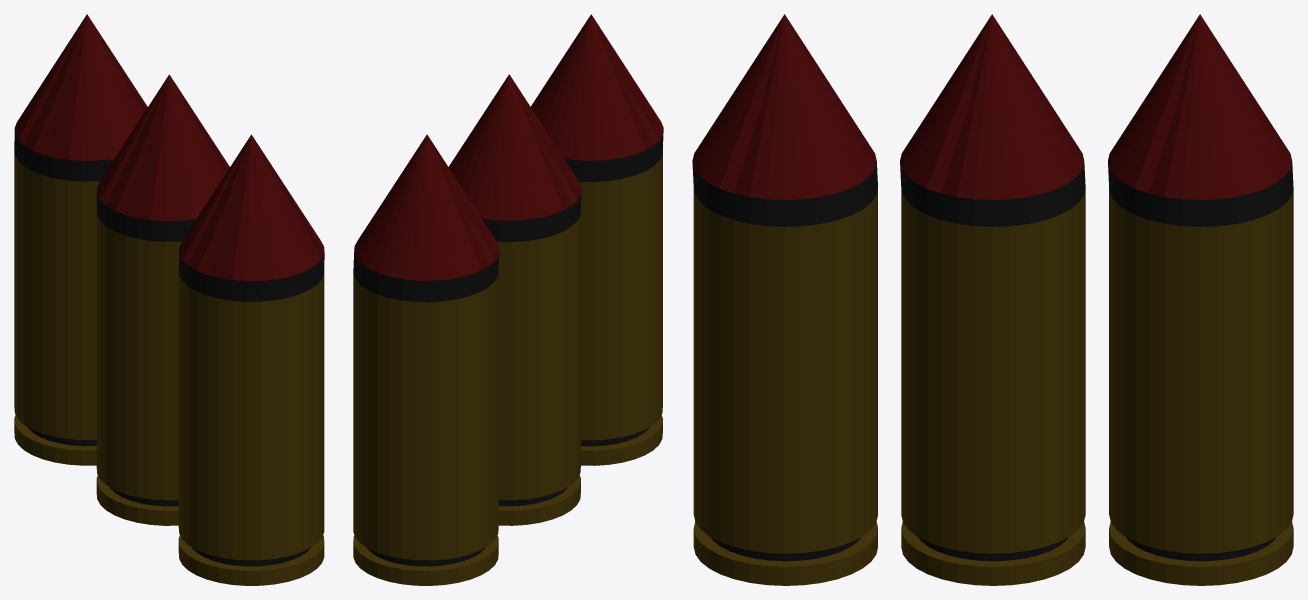
File: triplebullet.obj
3 views of the same model, side by side, from view 1: azimuth 30°, elevation 25°; view 2: azimuth 150°, elevation 25°; view 3: azimuth 270°, elevation 25° (orthographic). The views are drawn at different scales.
Visible parts, largest first — view 1: Cylinder.001, Cylinder.004, Cylinder; view 2: Cylinder.004, Cylinder, Cylinder.001; view 3: Cylinder.001, Cylinder, Cylinder.004.
Boxes of the visible parts, <box> form: Cylinder.001: <box>178,134,324,585</box>; Cylinder.004: <box>14,14,147,465</box>; Cylinder: <box>96,74,229,525</box>; Cylinder.004: <box>353,134,499,585</box>; Cylinder: <box>448,74,581,525</box>; Cylinder.001: <box>531,14,663,465</box>; Cylinder.001: <box>692,14,877,585</box>; Cylinder: <box>900,14,1085,585</box>; Cylinder.004: <box>1108,14,1293,585</box>.
Bounding box in the file's own units: 2.01 × 6.37 × 6.52.
